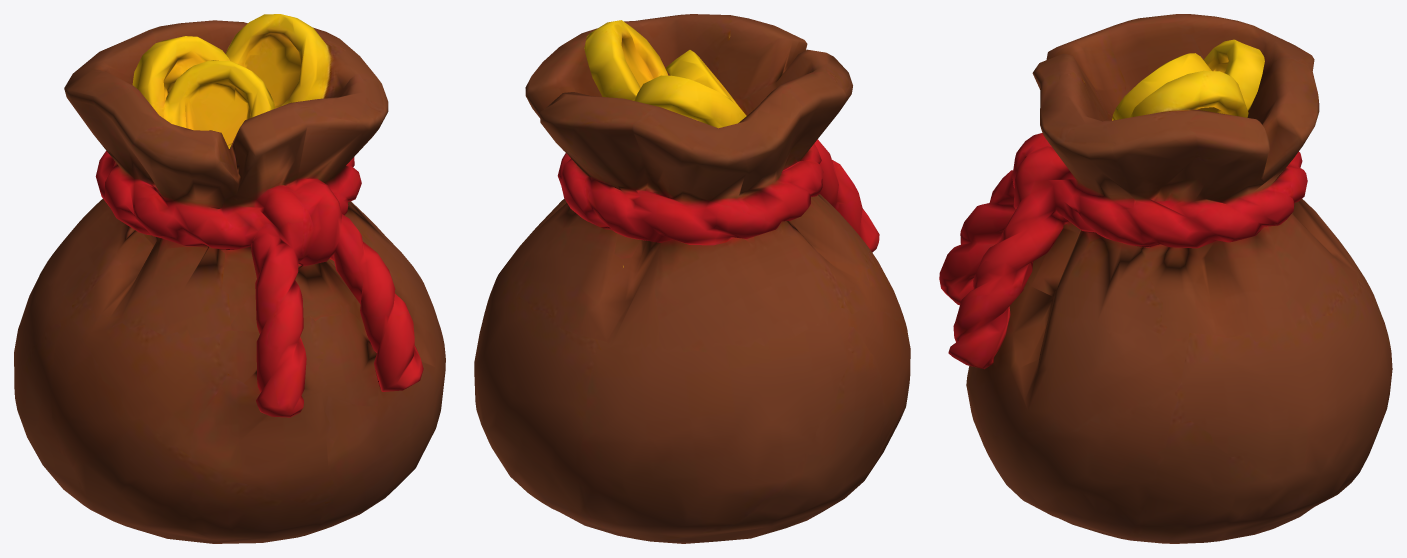
Rendered from loot_pouch-DO5c240H.glb.
3 views of the same model, side by side, from view 1: azimuth 30°, elevation 25°; view 2: azimuth 150°, elevation 25°; view 3: azimuth 270°, elevation 25° (orthographic).
Visible parts, largest first — view 1: tripo_node_edb1630e-b551-4d87-82e9-397f8e9345f5; view 2: tripo_node_edb1630e-b551-4d87-82e9-397f8e9345f5; view 3: tripo_node_edb1630e-b551-4d87-82e9-397f8e9345f5.
Boxes of the visible parts, x1=… form: tripo_node_edb1630e-b551-4d87-82e9-397f8e9345f5: x1=14, y1=14, x2=445, y2=543; tripo_node_edb1630e-b551-4d87-82e9-397f8e9345f5: x1=474, y1=14, x2=910, y2=543; tripo_node_edb1630e-b551-4d87-82e9-397f8e9345f5: x1=939, y1=14, x2=1392, y2=543.
Size of the model in its own units: 0.5995 by 0.7 by 0.639.
1 material, 1 textured.
